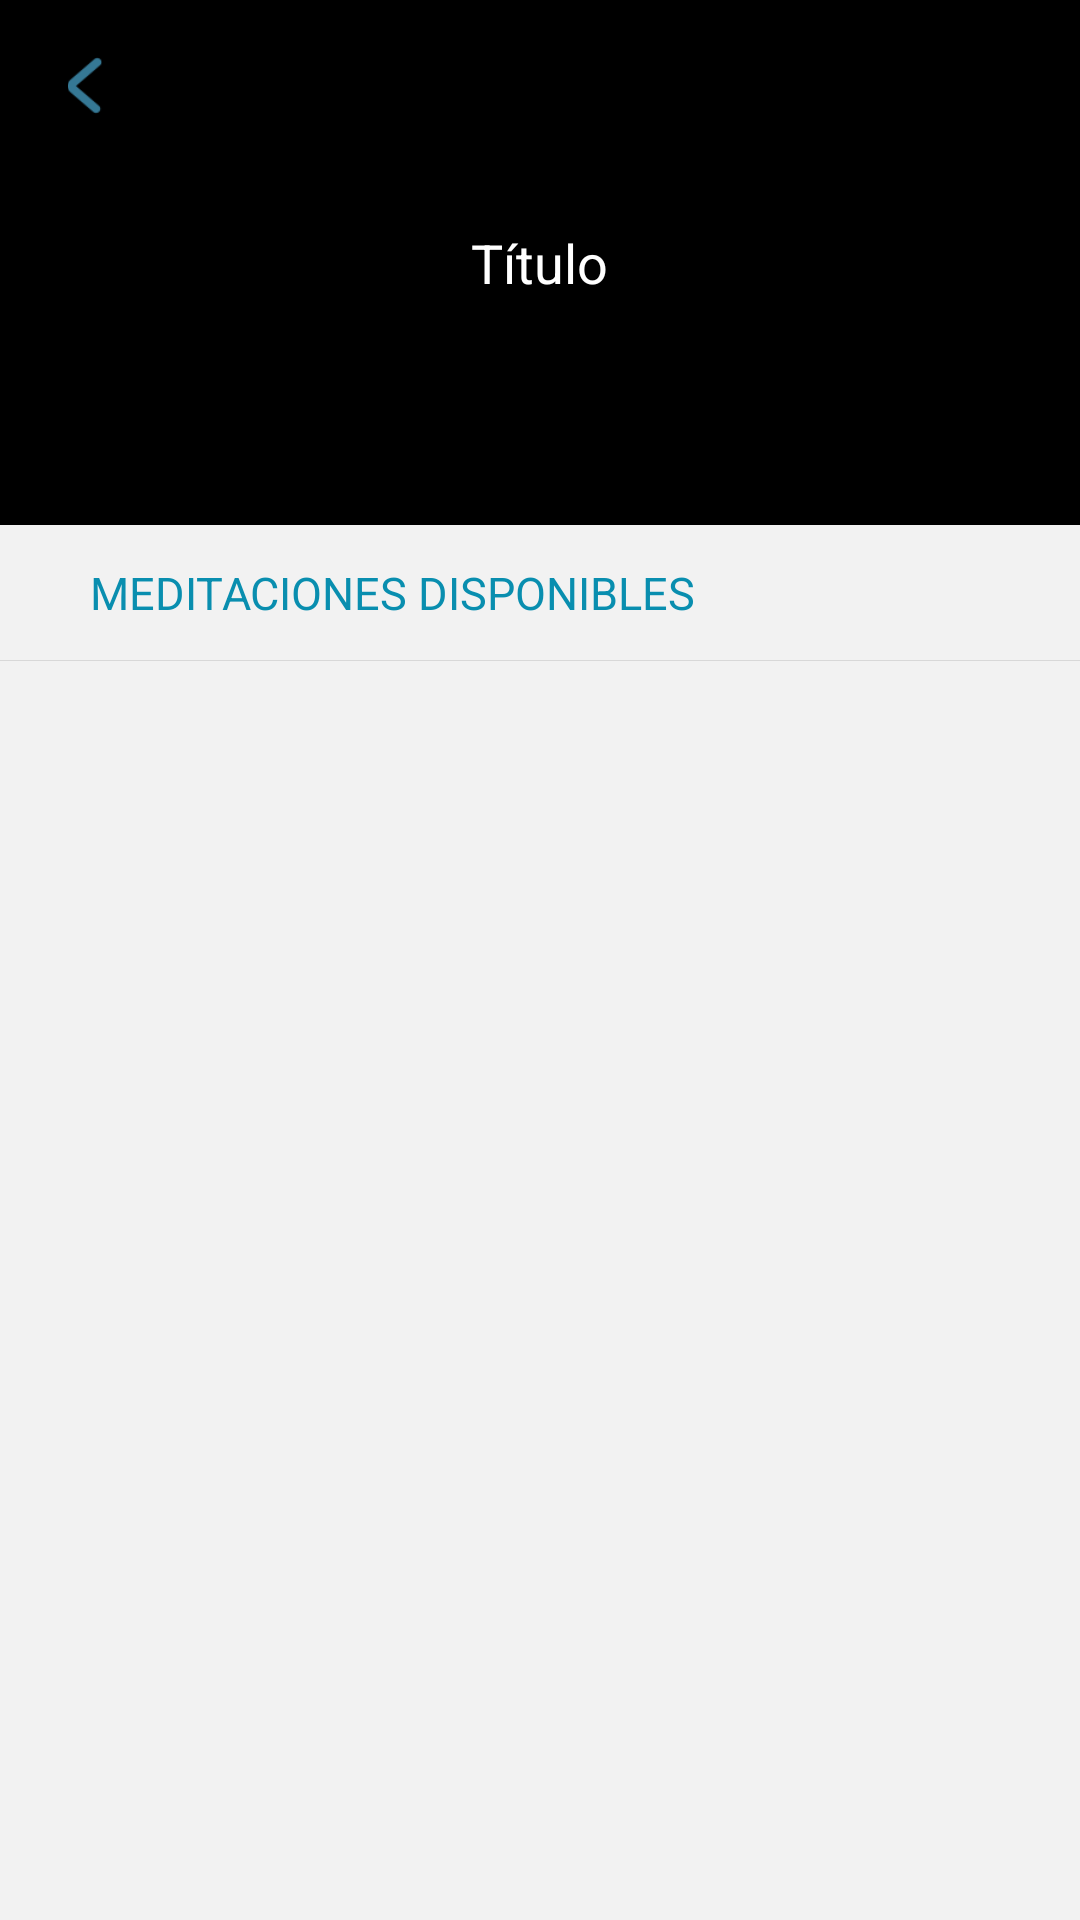

Screen size 1080px x 1920px. Icon name, then its center in pixels as point (x, y):
atras: point (85, 85)
